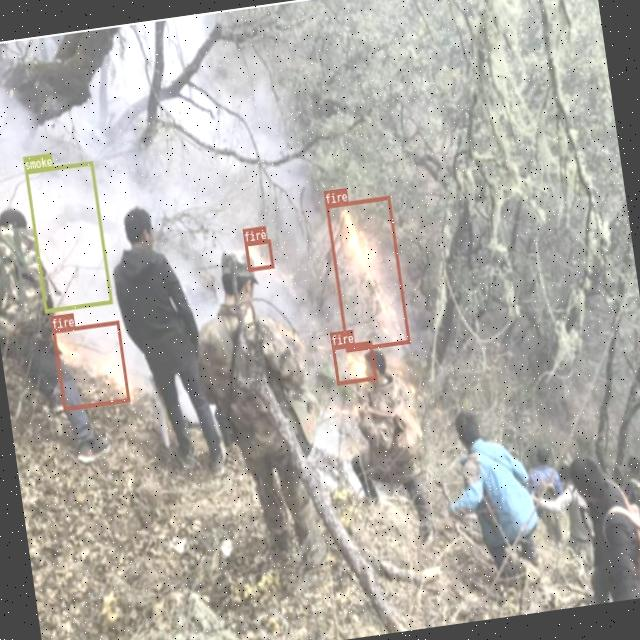fire: (325, 195, 410, 352), (52, 320, 130, 411), (331, 340, 376, 384), (244, 238, 274, 272)
smoke: (24, 160, 112, 312)
